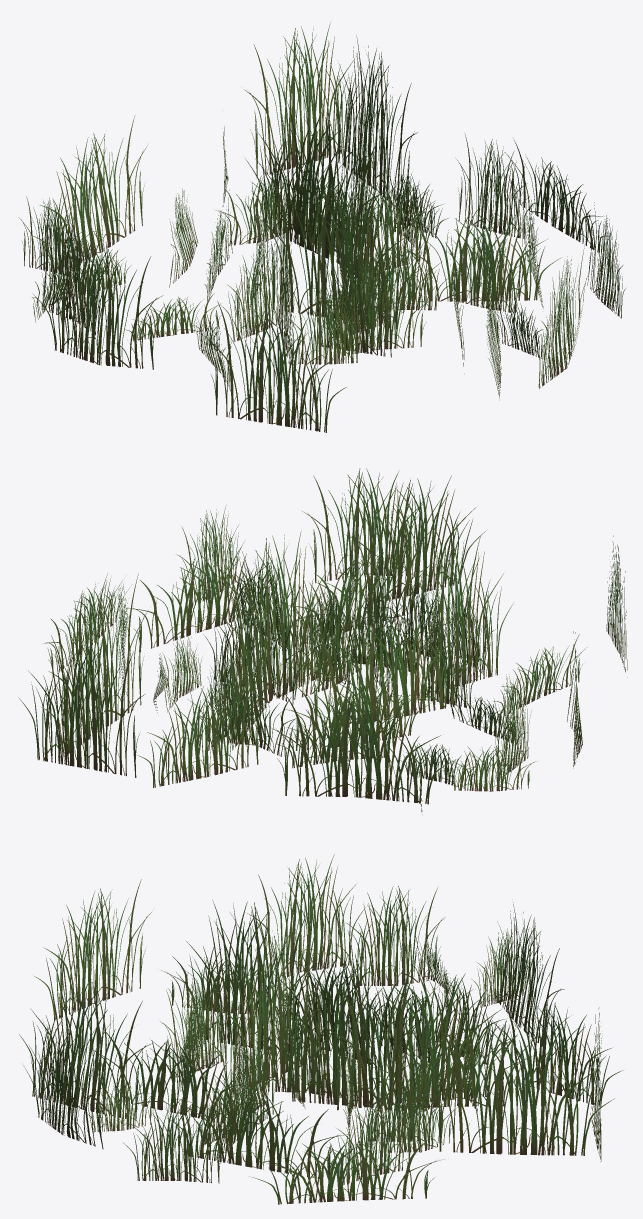
The model's file is low_grass0.obj.
3 renders of one model, top to bottom at view 1: azimuth 30°, elevation 25°; view 2: azimuth 150°, elevation 25°; view 3: azimuth 270°, elevation 25°, orthographic. The views are drawn at different scales.
Parts seen in each view (by area): view 1: SM_Grass_01_Plane.771; view 2: SM_Grass_01_Plane.771; view 3: SM_Grass_01_Plane.771.
Part boxes in pixels (bbox=[...]): SM_Grass_01_Plane.771: bbox=[19, 23, 625, 432]; SM_Grass_01_Plane.771: bbox=[18, 468, 627, 811]; SM_Grass_01_Plane.771: bbox=[19, 854, 623, 1204].
Size of the model in its own units: 1.94 by 0.6082 by 2.03.
1 material, 1 textured.
